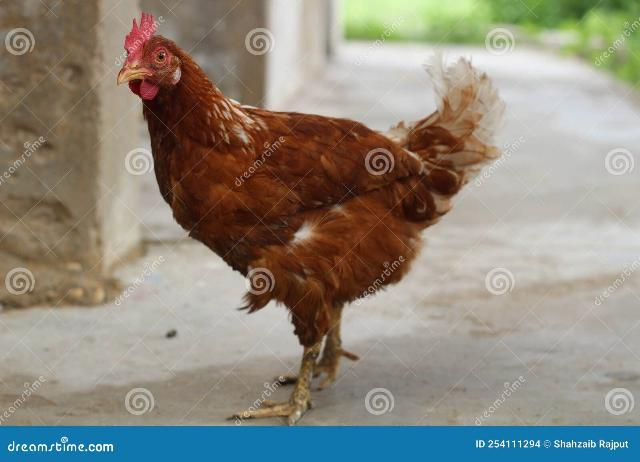Chicken: (118, 12, 506, 426)
